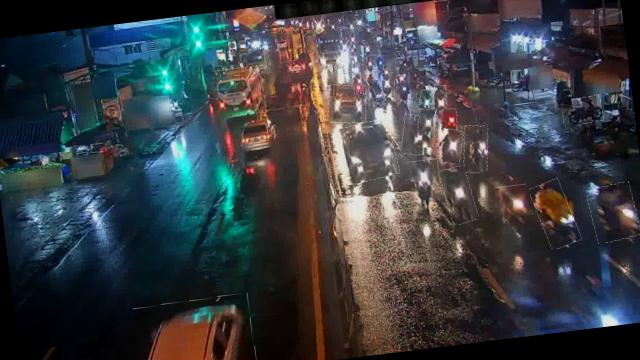Bike: (586, 182, 640, 244), (532, 178, 578, 250), (440, 165, 478, 225), (494, 184, 533, 240), (459, 124, 492, 174), (560, 94, 603, 127), (406, 158, 441, 198), (398, 112, 429, 156), (414, 105, 439, 148), (437, 127, 465, 165), (552, 80, 574, 112), (438, 107, 458, 135), (395, 74, 410, 105), (432, 84, 448, 109), (382, 72, 396, 98), (418, 88, 434, 110), (371, 80, 384, 105), (352, 75, 363, 96), (353, 71, 362, 92)
Bus: (212, 64, 270, 120)
Car: (130, 292, 256, 360), (335, 118, 399, 184), (326, 81, 368, 124), (239, 114, 279, 152)
